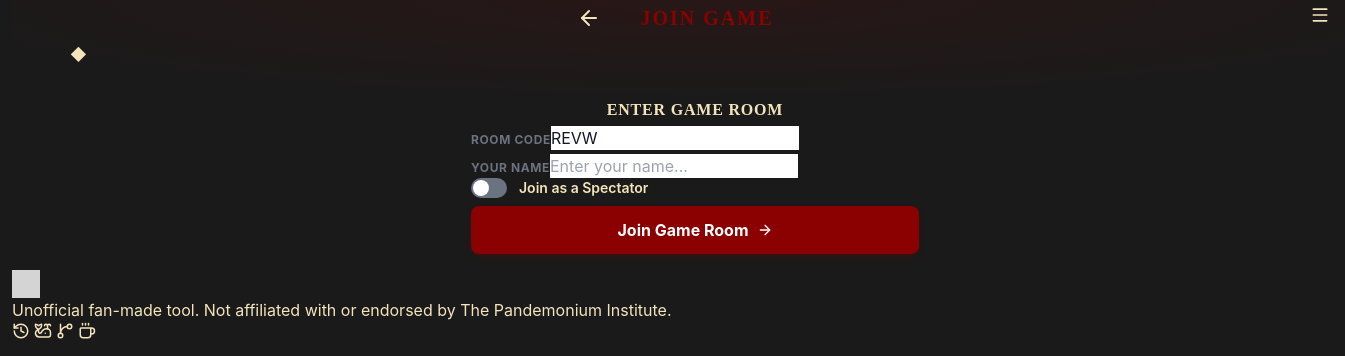
Game sync regressions › sends spectator join requests and retries from the join form
Step 1. Click the switch labelled "Join as a Spectator" → x=560, y=188, box [471, 178, 648, 198]
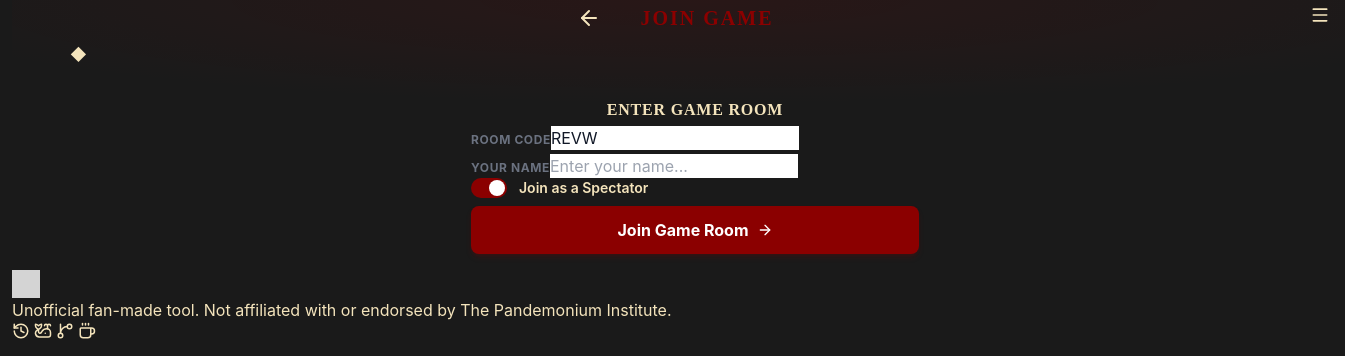
Step 2. Type "Vera" into the field with placeholder "Enter your name..." → x=674, y=166, box [550, 154, 798, 178]
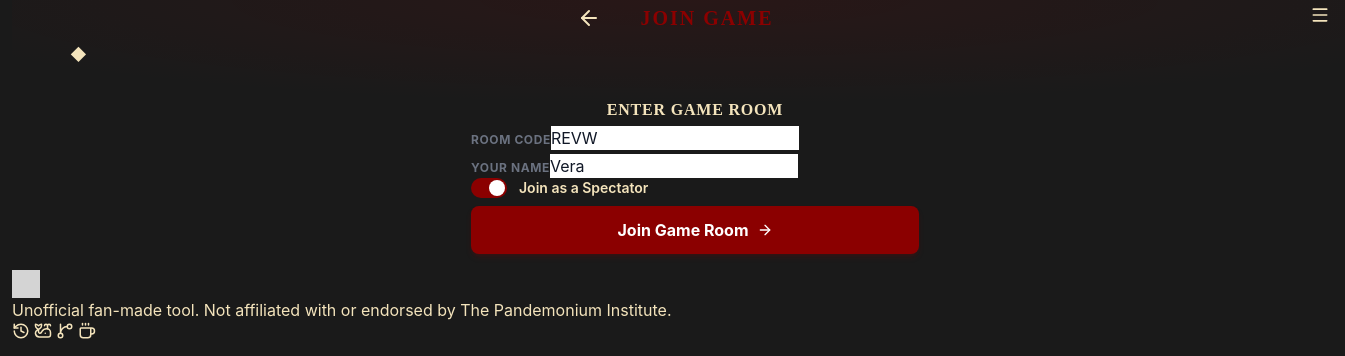
Step 3. Click the button "Join Game Room" → x=695, y=230, box [471, 206, 919, 254]
Wait 1500 ms
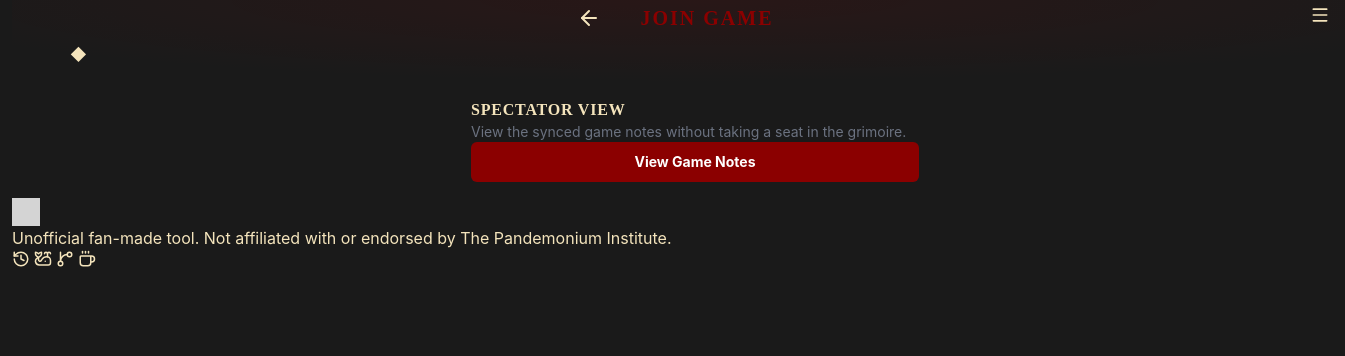
Expected: the heading "Spectator View" is shown, [471, 101, 626, 118]
